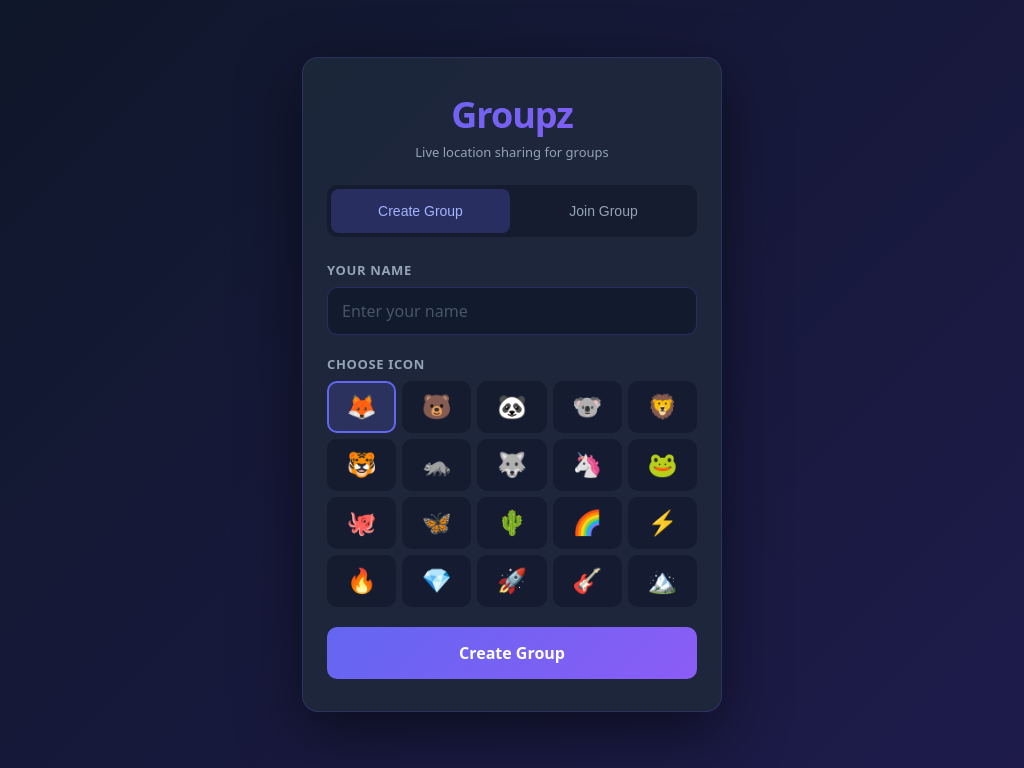
Home › validation › shows error when submitting with an empty name
Click the submit button at (512, 652), box top-left (327, 626), bottom-right (697, 678)
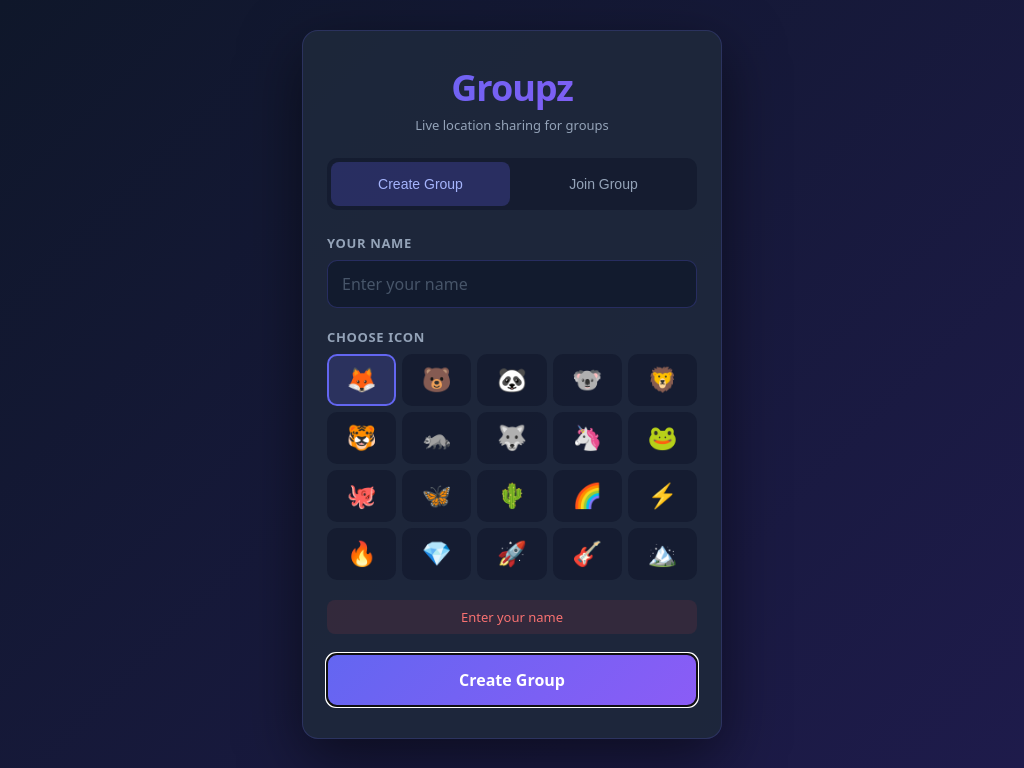
Check: the text "Enter your name" is shown, box top-left (327, 600), bottom-right (697, 634)
